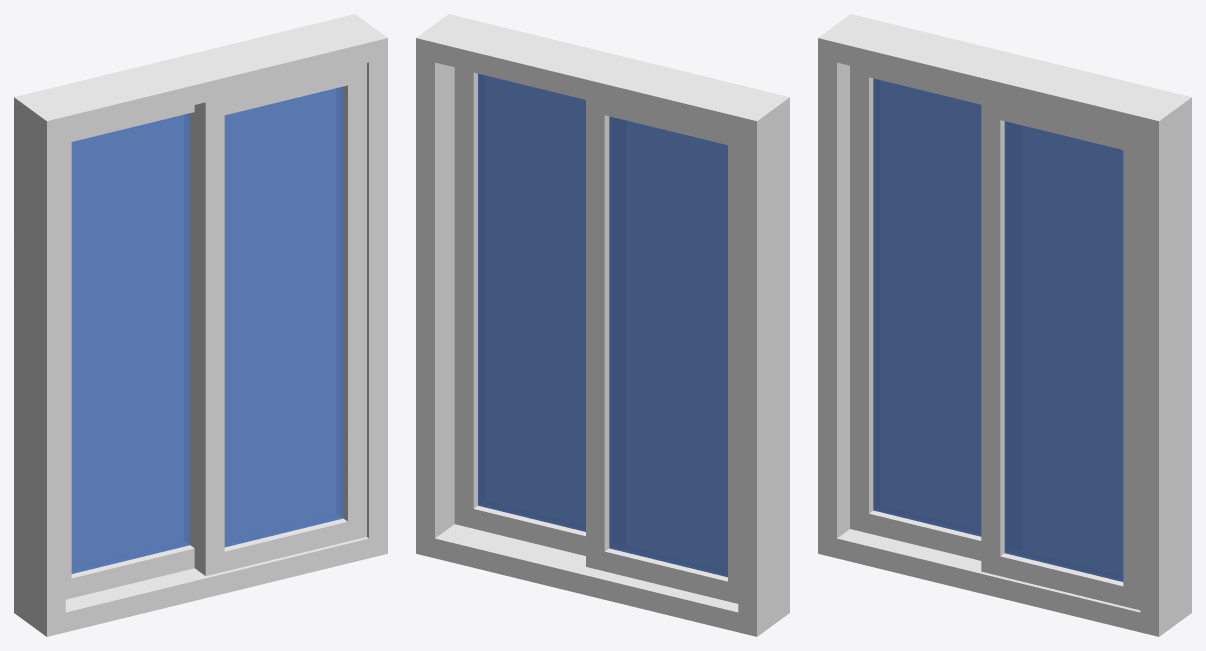
The picture shows the model from 3 angles, left to right: view 1: azimuth 30°, elevation 25°; view 2: azimuth 150°, elevation 25°; view 3: azimuth 330°, elevation 25°; orthographic projection.
Visible parts, largest first — view 1: SketchUp.001_ID11, SketchUp.004_ID31, SketchUp_ID3, SketchUp.002_ID19, SketchUp.007_ID49; view 2: SketchUp.001_ID11, SketchUp.004_ID31, SketchUp_ID3, SketchUp.002_ID19, SketchUp.003_ID25; view 3: SketchUp.001_ID11, SketchUp_ID3, SketchUp.004_ID31, SketchUp.002_ID19, SketchUp.007_ID49.
Boxes of the visible parts, box(x1,y1,x2,y2) form: SketchUp.001_ID11: box(14, 14, 387, 636); SketchUp.004_ID31: box(71, 113, 190, 573); SketchUp_ID3: box(224, 86, 343, 547); SketchUp.002_ID19: box(65, 62, 368, 612); SketchUp.007_ID49: box(224, 85, 347, 551); SketchUp.001_ID11: box(416, 14, 789, 636); SketchUp.004_ID31: box(609, 116, 727, 577); SketchUp_ID3: box(478, 73, 585, 531); SketchUp.002_ID19: box(435, 62, 738, 612); SketchUp.003_ID25: box(604, 115, 727, 581); SketchUp.001_ID11: box(818, 14, 1191, 636); SketchUp_ID3: box(1004, 121, 1123, 581); SketchUp.004_ID31: box(873, 78, 981, 536); SketchUp.002_ID19: box(837, 62, 1140, 612); SketchUp.007_ID49: box(1000, 120, 1123, 586).
Bounding box in the file's own units: 0.8996 × 1.3 × 0.15.
